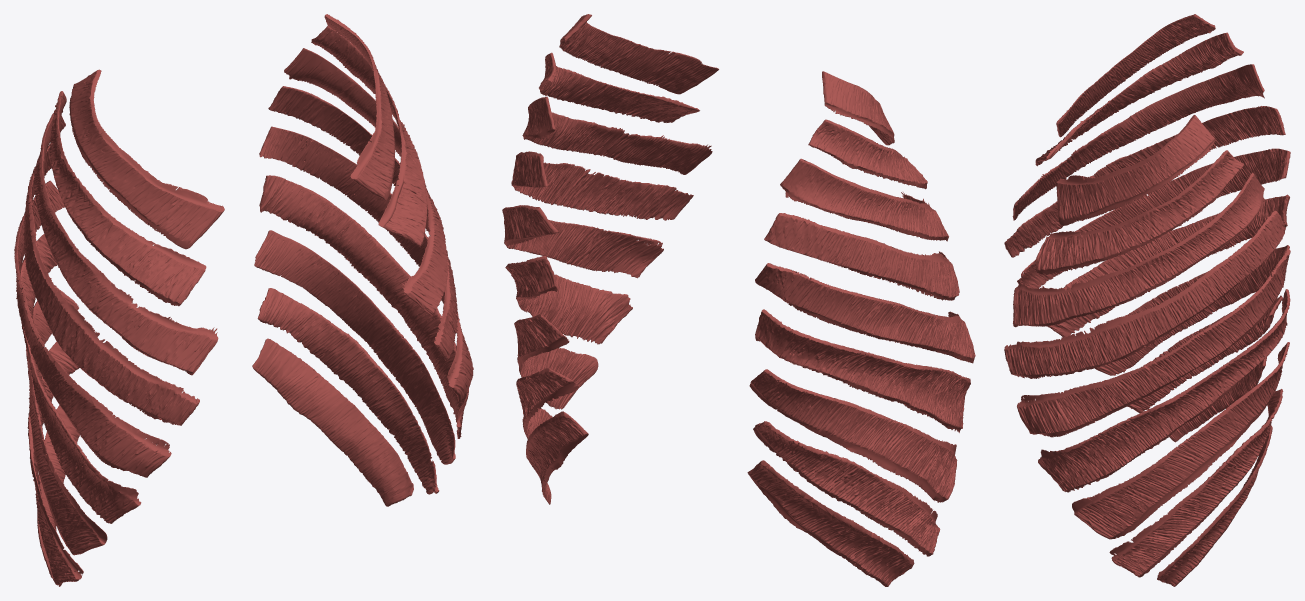
The model's file is FMA9758.glb.
3 renders of one model, left to right at view 1: azimuth 30°, elevation 25°; view 2: azimuth 150°, elevation 25°; view 3: azimuth 270°, elevation 25°, orthographic. The views are drawn at different scales.
Parts seen in each view (by area): view 1: FMA9758; view 2: FMA9758; view 3: FMA9758.
Part boxes in pixels (box(x1,y1,x2,y2)): FMA9758: box(14, 14, 473, 586); FMA9758: box(502, 14, 975, 586); FMA9758: box(1004, 14, 1290, 586).
Size of the model in its own units: 0.2615 by 0.3145 by 0.1816.
